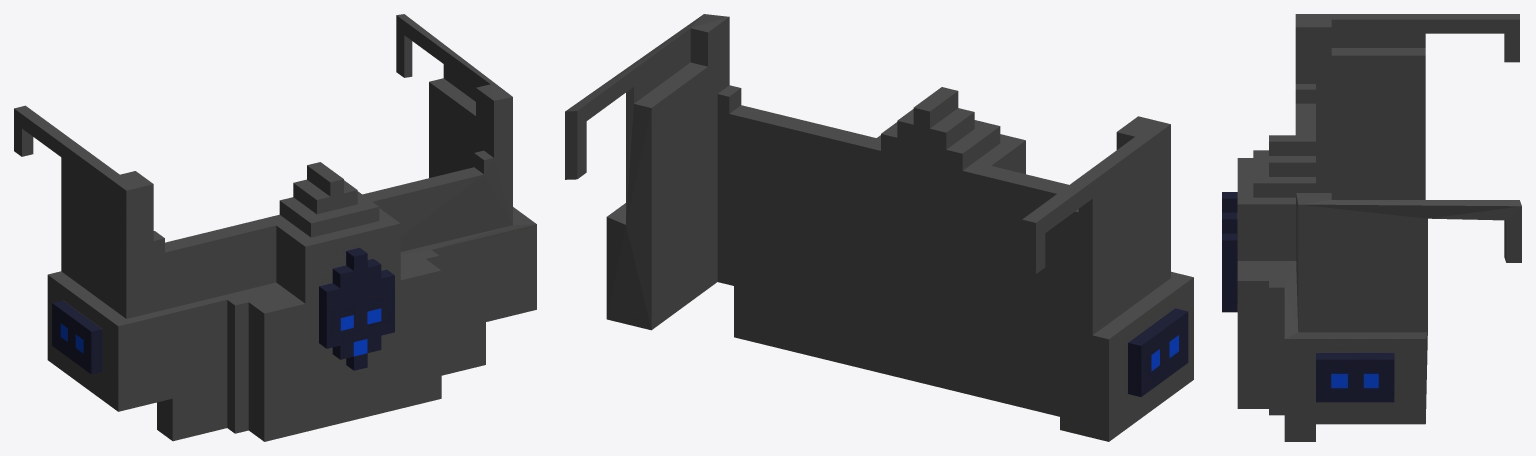
File: mask_iron.glb
3 renders of one model, left to right at view 1: azimuth 30°, elevation 25°; view 2: azimuth 150°, elevation 25°; view 3: azimuth 270°, elevation 25°, orthographic. The views are drawn at different scales.
Visible parts, largest first — view 1: iron_mask.001; view 2: iron_mask.001; view 3: iron_mask.001.
Part boxes in pixels (<box>): iron_mask.001: <box>14,14,536,441</box>; iron_mask.001: <box>565,14,1193,441</box>; iron_mask.001: <box>1222,14,1521,441</box>.
Bounding box in the file's own units: 3.26 × 1.8 × 1.91.
1 material, 1 textured.
